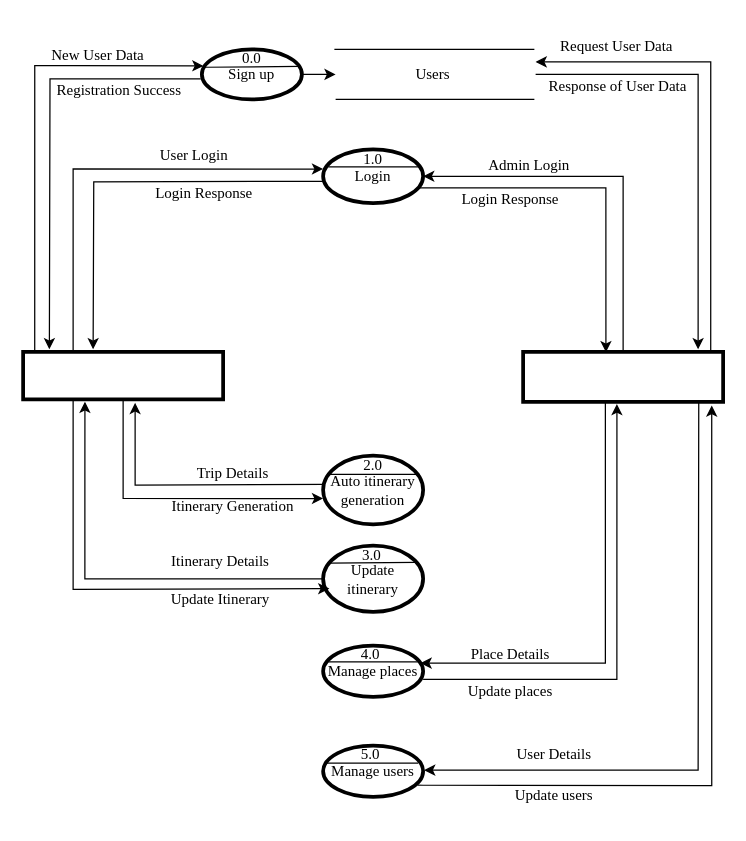
Image size: 746x841. Some labels were removed from this diagram. Each missing label, with the centre of its shape:
"Admin" goes at [622,376].
"User" goes at [122,375].
